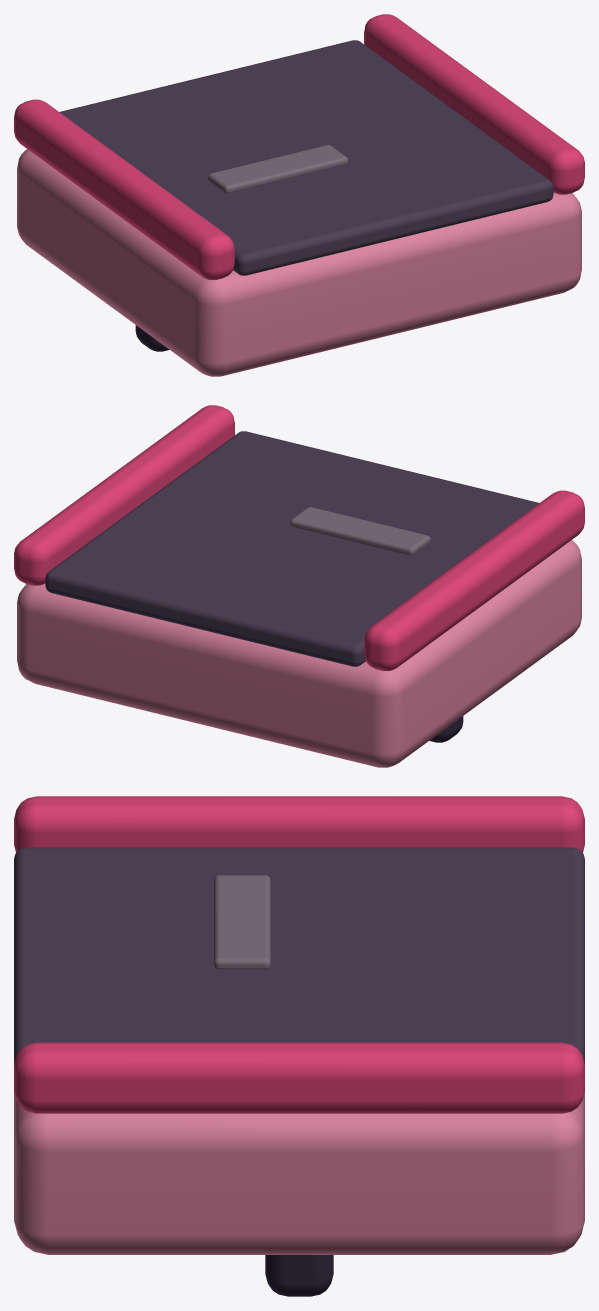
Rendered from conveyor.glb.
The picture shows the model from 3 angles, top to bottom: view 1: azimuth 30°, elevation 25°; view 2: azimuth 150°, elevation 25°; view 3: azimuth 270°, elevation 25°; orthographic projection. The views are drawn at different scales.
Visible parts, largest first — view 1: conveyor; view 2: conveyor; view 3: conveyor.
Boxes of the visible parts, x1,y1,x2,y2 form: conveyor: (14,14,584,376); conveyor: (14,405,584,767); conveyor: (14,796,584,1296).
Bounding box in the file's own units: 0.56 × 0.26 × 0.5.
